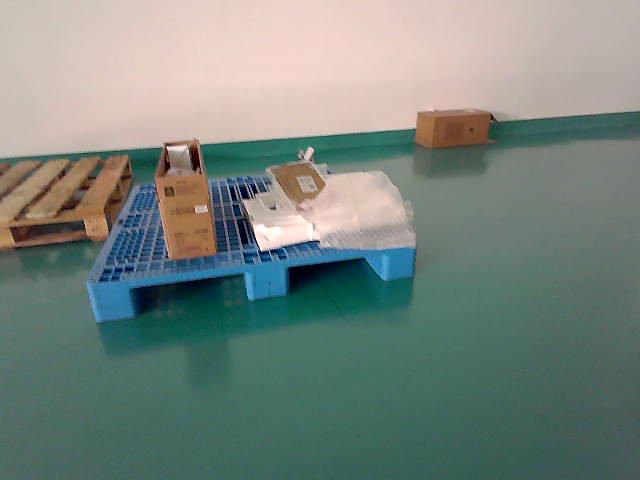block: (84, 279, 138, 325), (247, 258, 290, 301), (382, 246, 416, 280)
front: (85, 246, 417, 324)
hole pallet: (130, 272, 247, 310), (285, 252, 378, 290)
